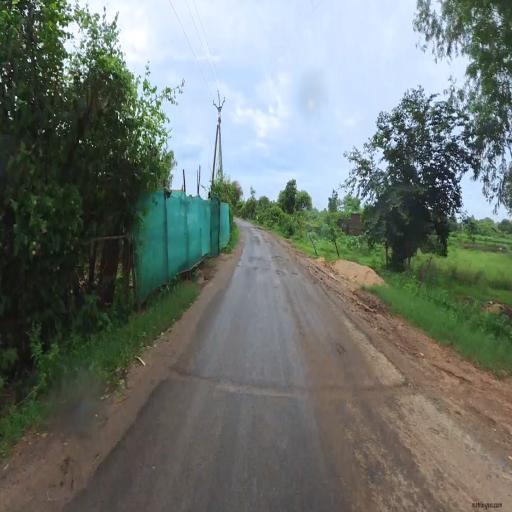longitudinal_crack: (156, 349, 439, 444)
